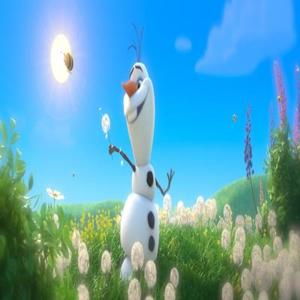olaf: (104, 26, 182, 257)
